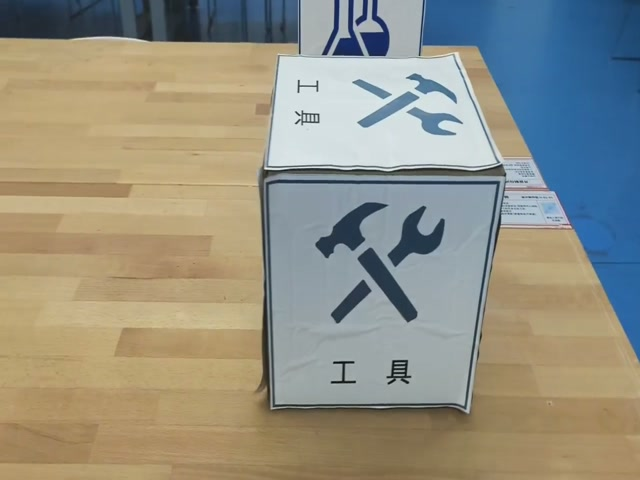Cube_tool: (261, 53, 504, 178)
